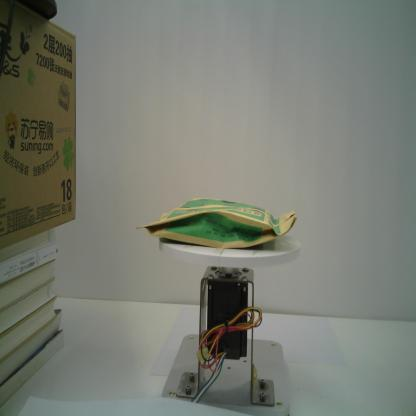Dried Food: (135, 197, 298, 249)
